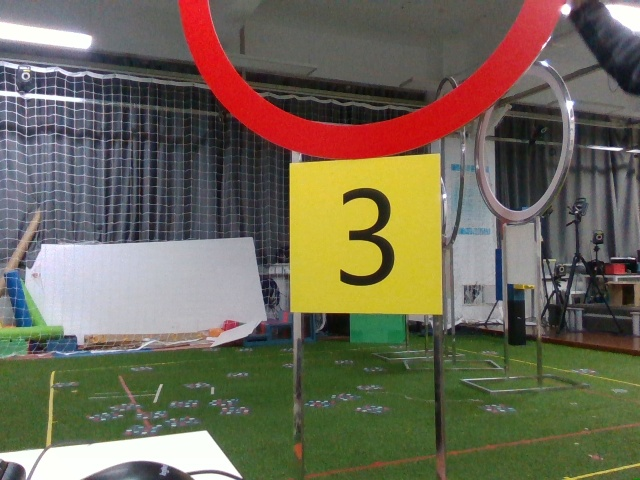target: (293, 161, 436, 308)
